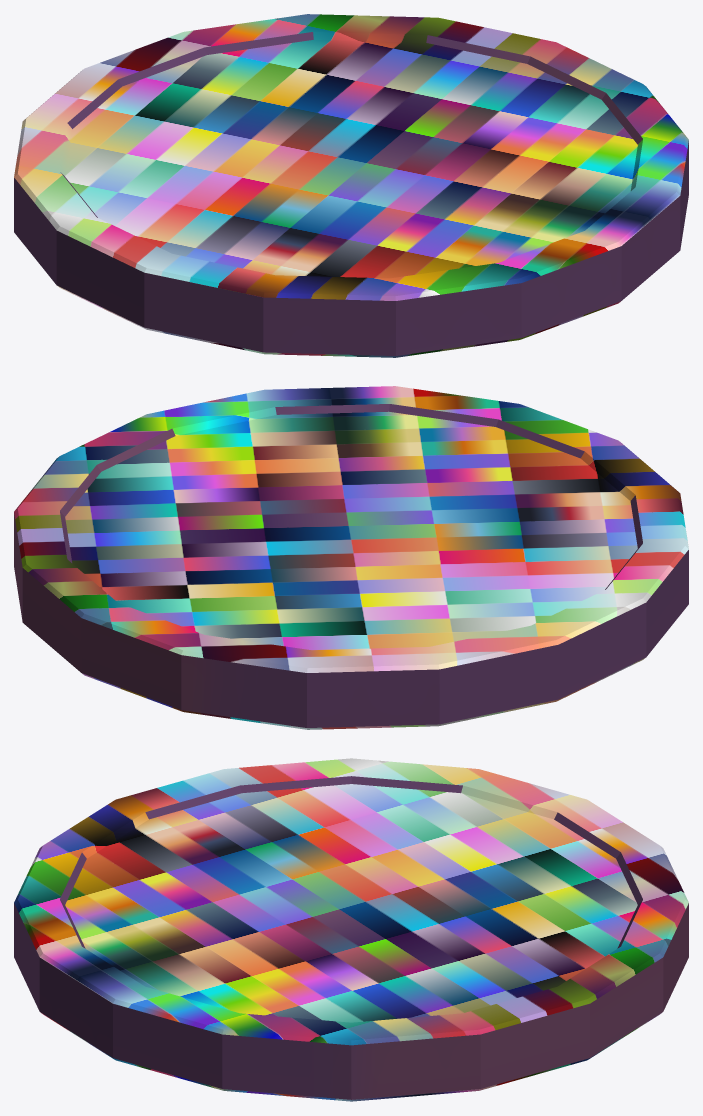
Rendered from Coin.fbx.
3 views of the same model, one above another, from view 1: azimuth 30°, elevation 25°; view 2: azimuth 150°, elevation 25°; view 3: azimuth 270°, elevation 25° (orthographic).
Visible parts, largest first — view 1: Coin; view 2: Coin; view 3: Coin.
Boxes of the visible parts, x1,y1,x2,y2 form: Coin: (14,14,688,357); Coin: (14,386,688,729); Coin: (14,758,688,1101).
Size of the model in its own units: 100 by 10 by 100.
